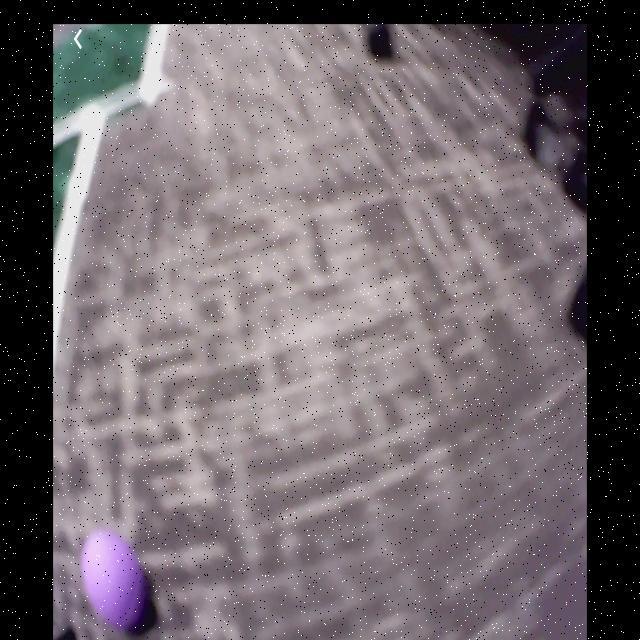ball: (82, 534, 145, 630)
